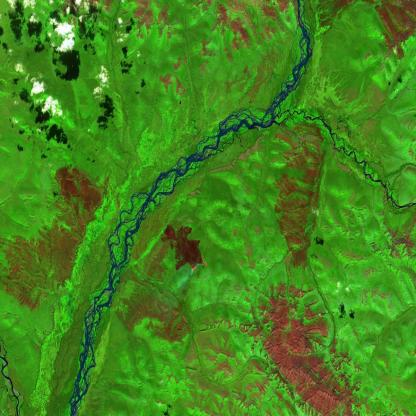fire: (189, 251, 209, 276)
